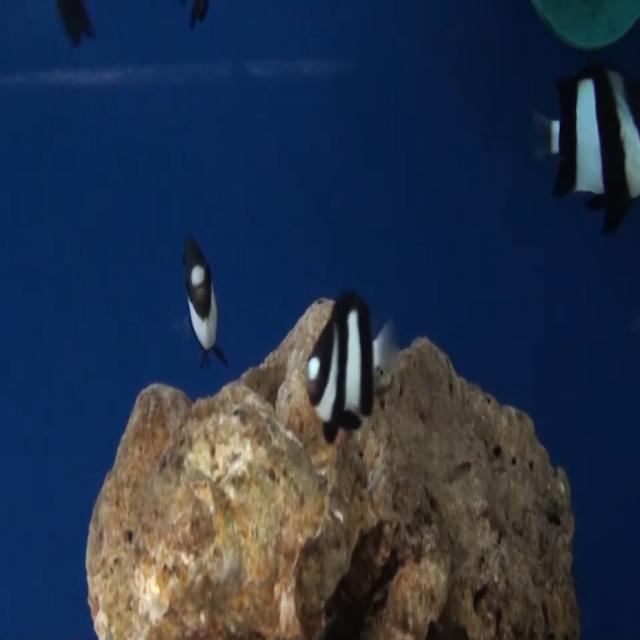ThreeStripedDamselfish: (307, 292, 397, 443), (182, 233, 226, 371)
